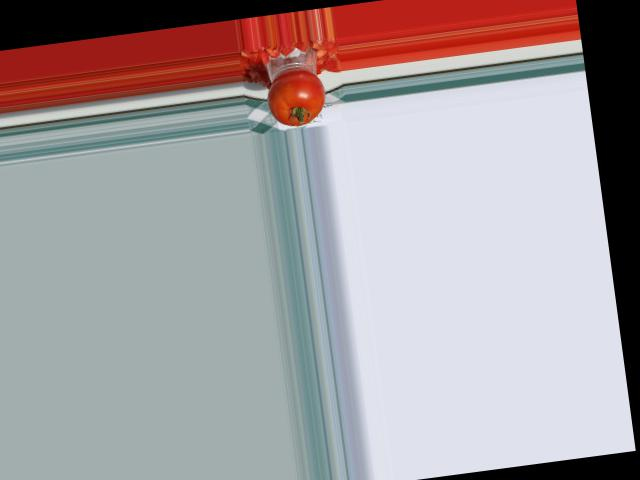tomato: (264, 66, 330, 129)
